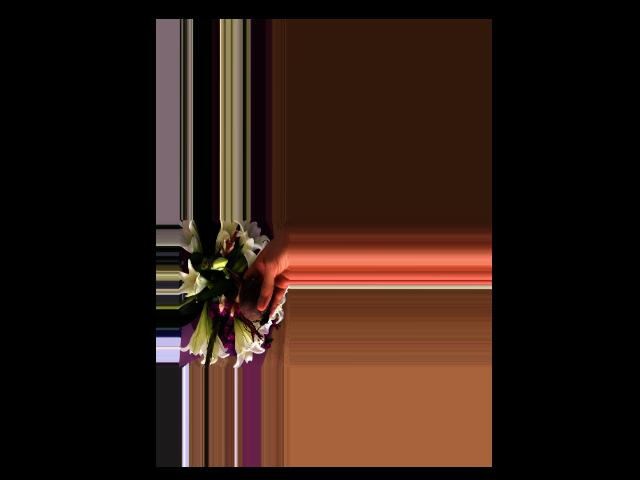beet: (216, 266, 270, 333)
